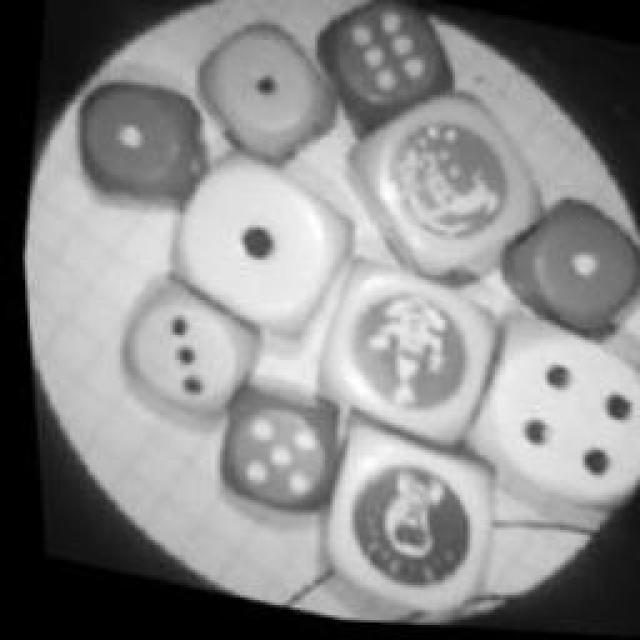dice_1: (138, 145, 372, 373), (164, 5, 364, 193), (479, 180, 639, 352), (58, 75, 222, 235)
dice_3: (85, 272, 273, 448)
dice_5: (195, 368, 350, 532)
dice_6: (290, 0, 480, 155)
